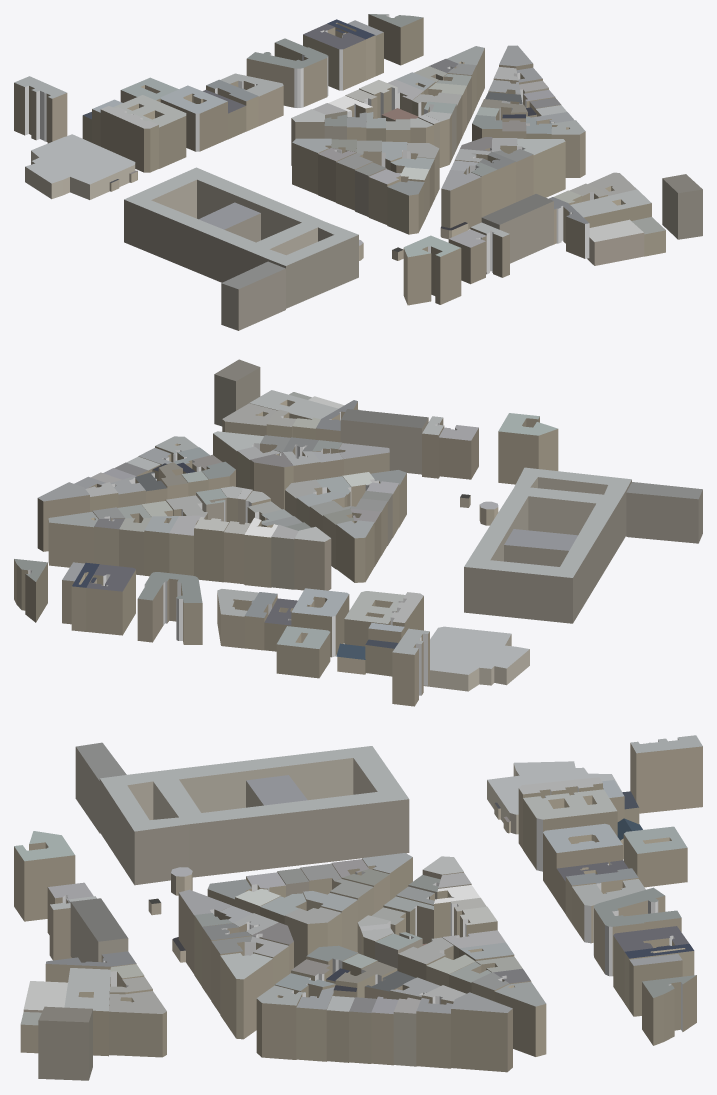
The picture shows the model from 3 angles, top to bottom: view 1: azimuth 30°, elevation 25°; view 2: azimuth 150°, elevation 25°; view 3: azimuth 270°, elevation 25°; orthographic projection. The views are drawn at different scales.
Visible parts, largest first — view 1: tuile; view 2: tuile; view 3: tuile.
Boxes of the visible parts, x1,y1,x2,y2 form: tuile: (14,14,702,330); tuile: (14,359,702,706); tuile: (14,735,702,1080).
Size of the model in its own units: 268 by 36.35 by 273.
